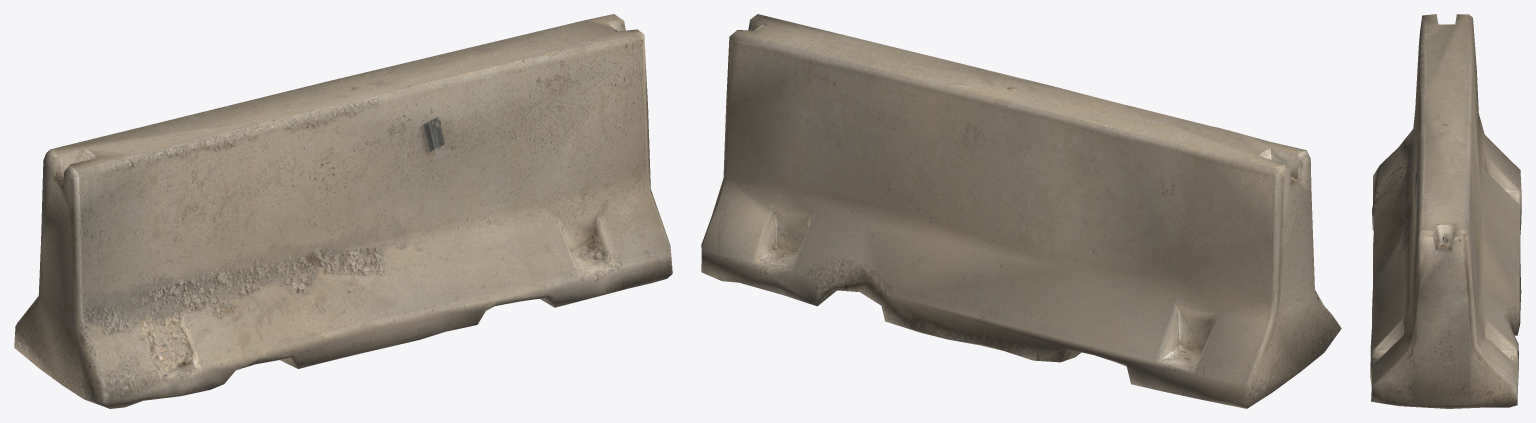
Rendered from Barrier.fbx.
3 views of the same model, side by side, from view 1: azimuth 30°, elevation 25°; view 2: azimuth 150°, elevation 25°; view 3: azimuth 270°, elevation 25° (orthographic). The views are drawn at different scales.
Visible parts, largest first — view 1: Barrier; view 2: Barrier; view 3: Barrier.
Boxes of the visible parts, x1,y1,x2,y2 form: Barrier: (14, 14, 672, 408); Barrier: (701, 14, 1341, 408); Barrier: (1370, 14, 1521, 408).
Bounding box in the file's own units: 1.7 × 0.6507 × 0.4906.
1 material, 1 textured.
